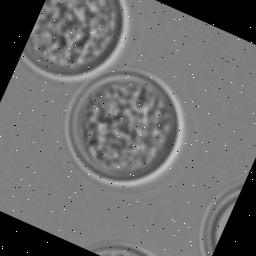picoshell: (66, 70, 184, 186), (24, 0, 122, 75), (200, 184, 243, 256), (93, 243, 154, 256)
